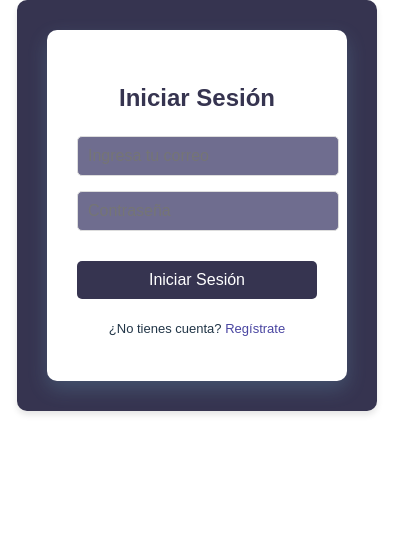
it: Login exitoso + mensaje exitoso
# son los datos que se van a ingresar
Type "quispeaguilar.bel3n@gmail.com" into the field with placeholder "Ingresa tu correo".
click(208, 156); type("quispeaguilar.bel3n@gmail.com")  # box [77,136,339,176]
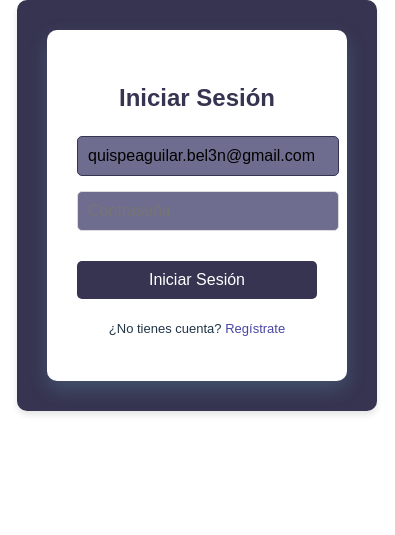
Type "yosoyaye" into the password field with placeholder "Contraseña".
click(208, 211); type("yosoyaye")  # box [77,191,339,231]
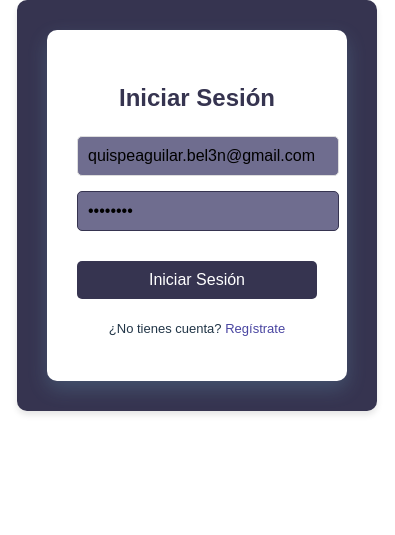
Click the button "Iniciar Sesión".
click(197, 280)  # box [77,261,317,299]
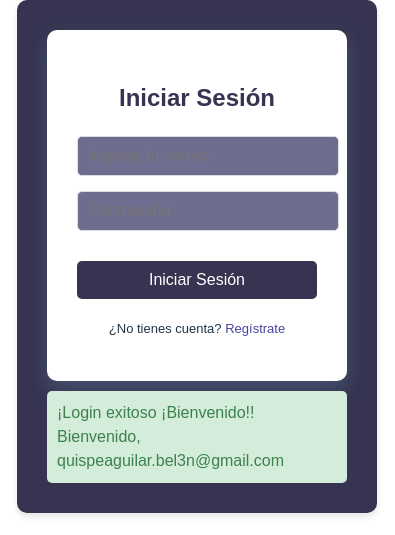
Expected: the text "Login exitoso ¡Bienvenido!" is shown, [57,404,284,469]
